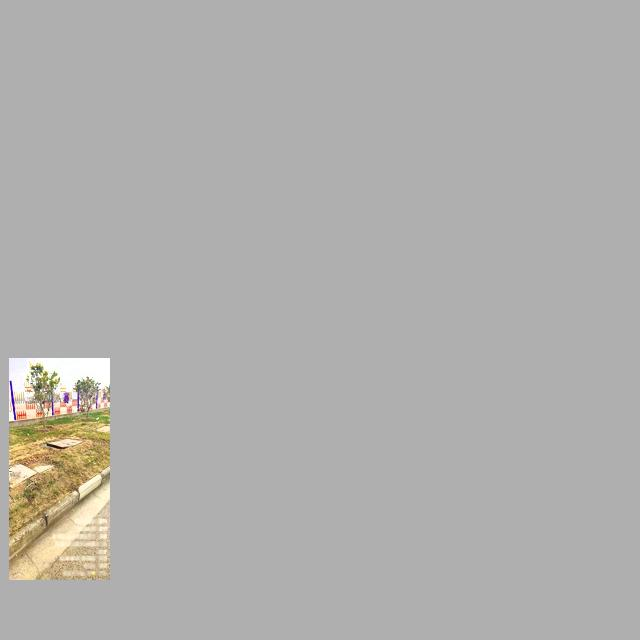good: (9, 460, 56, 488)
uncovered: (44, 439, 84, 449)
